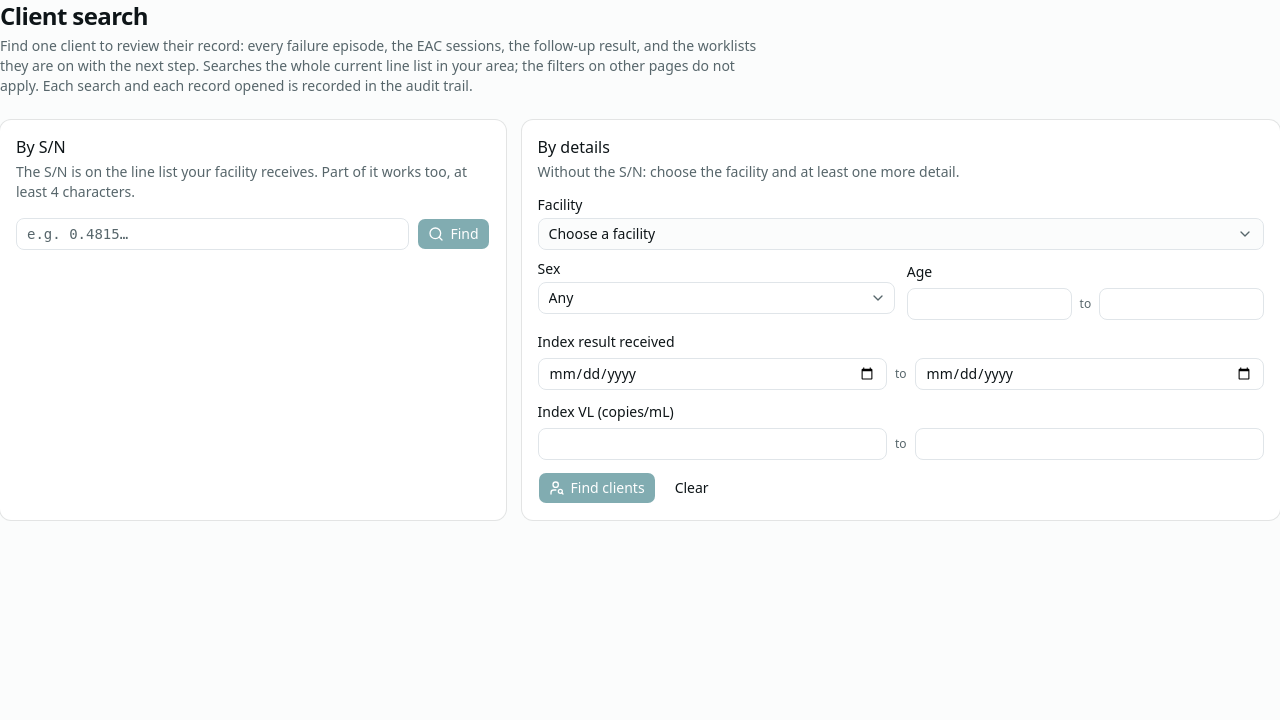
Client search › goes straight to the record when one client matches
Type "0.1234" into the field named "S/N" at [213, 234], box top-left (16, 218), bottom-right (410, 250)
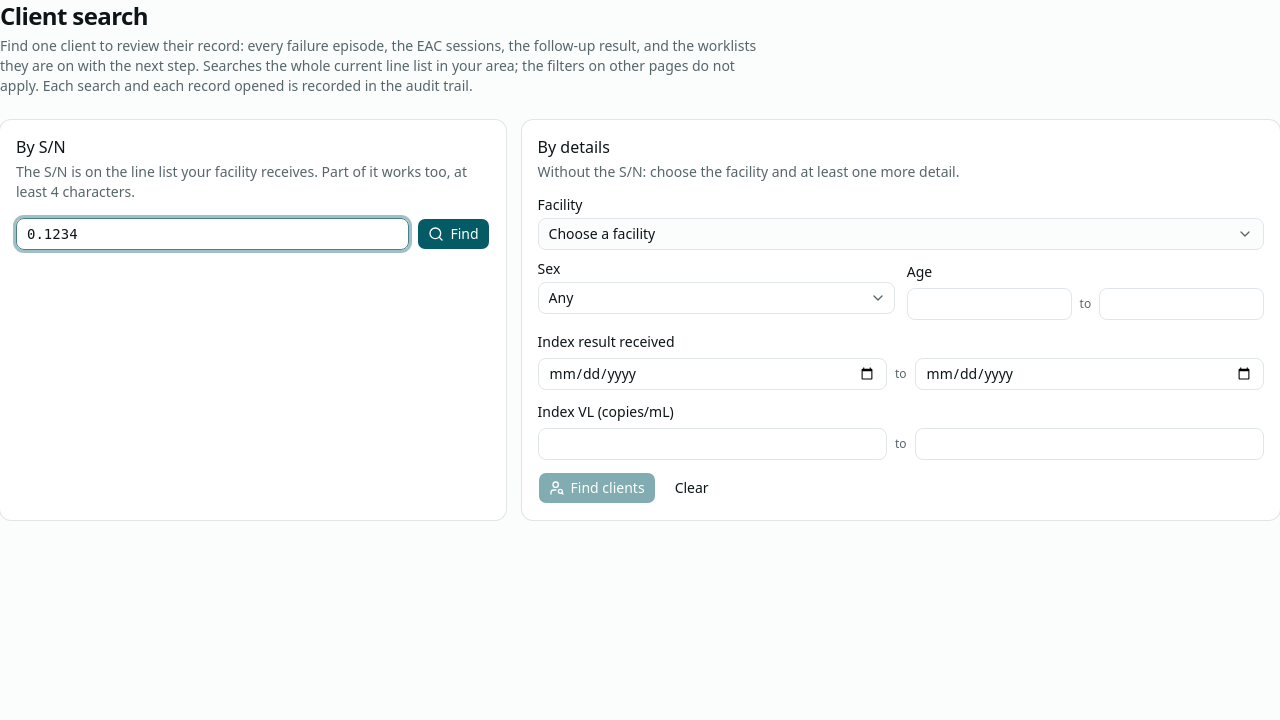
Click the button "Find" at [454, 234], box top-left (418, 218), bottom-right (490, 250)
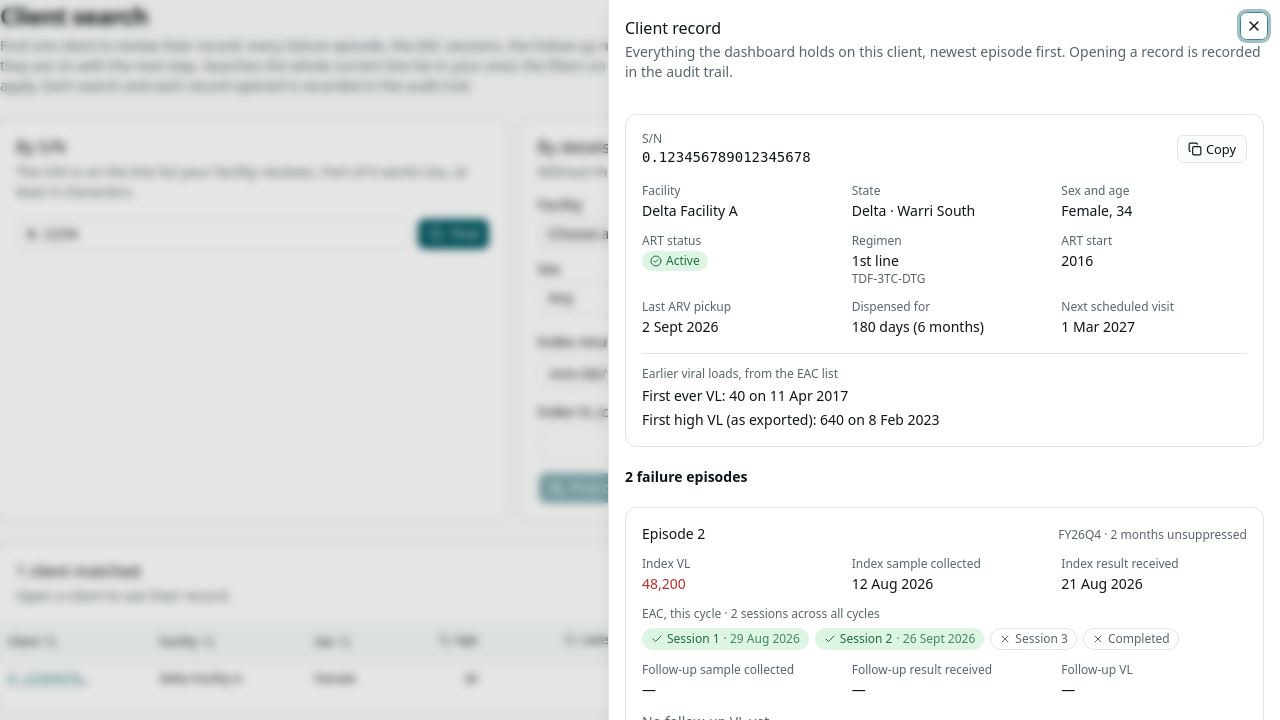
Result: the dialog is shown at top-left (608, 0), bottom-right (1279, 719)
